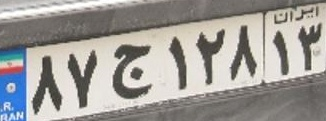character: (105, 38, 162, 102), (63, 47, 104, 112), (27, 52, 65, 117), (192, 24, 228, 89), (226, 18, 261, 84), (160, 28, 193, 94), (295, 22, 326, 74), (266, 24, 292, 81)
